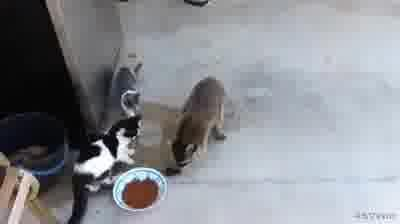raccoon: (170, 76, 229, 177)
